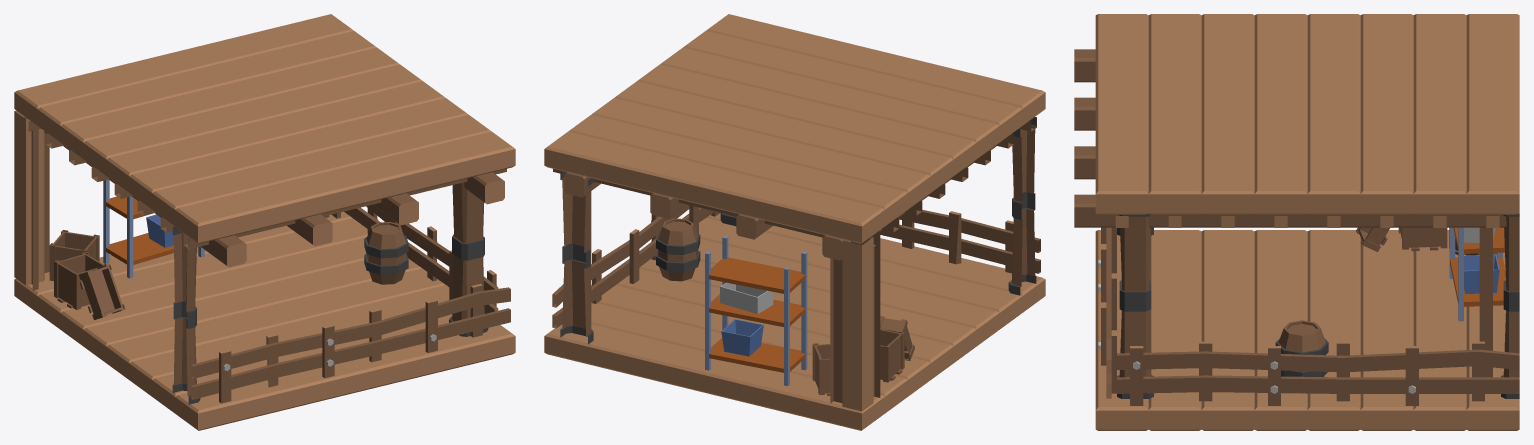
Rendered from ResourceStorage_Lvl_01_Corner_Left_Right.fbx.
The picture shows the model from 3 angles, left to right: view 1: azimuth 30°, elevation 25°; view 2: azimuth 150°, elevation 25°; view 3: azimuth 270°, elevation 25°; orthographic projection. The views are drawn at different scales.
Parts seen in each view (by area): view 1: ResourceStorage_Lvl_01_Corner_Left_Right; view 2: ResourceStorage_Lvl_01_Corner_Left_Right; view 3: ResourceStorage_Lvl_01_Corner_Left_Right.
Boxes of the visible parts, x1,y1,x2,y2 form: ResourceStorage_Lvl_01_Corner_Left_Right: [14, 14, 515, 430]; ResourceStorage_Lvl_01_Corner_Left_Right: [544, 14, 1045, 430]; ResourceStorage_Lvl_01_Corner_Left_Right: [1074, 14, 1519, 430].
Bounding box in the file's own units: 8 × 5 × 8.4.
